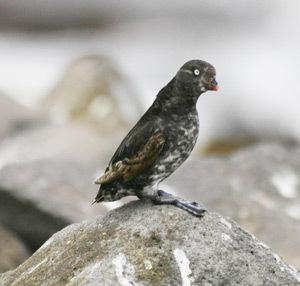006.Least_Auklet: (92, 59, 221, 218)
